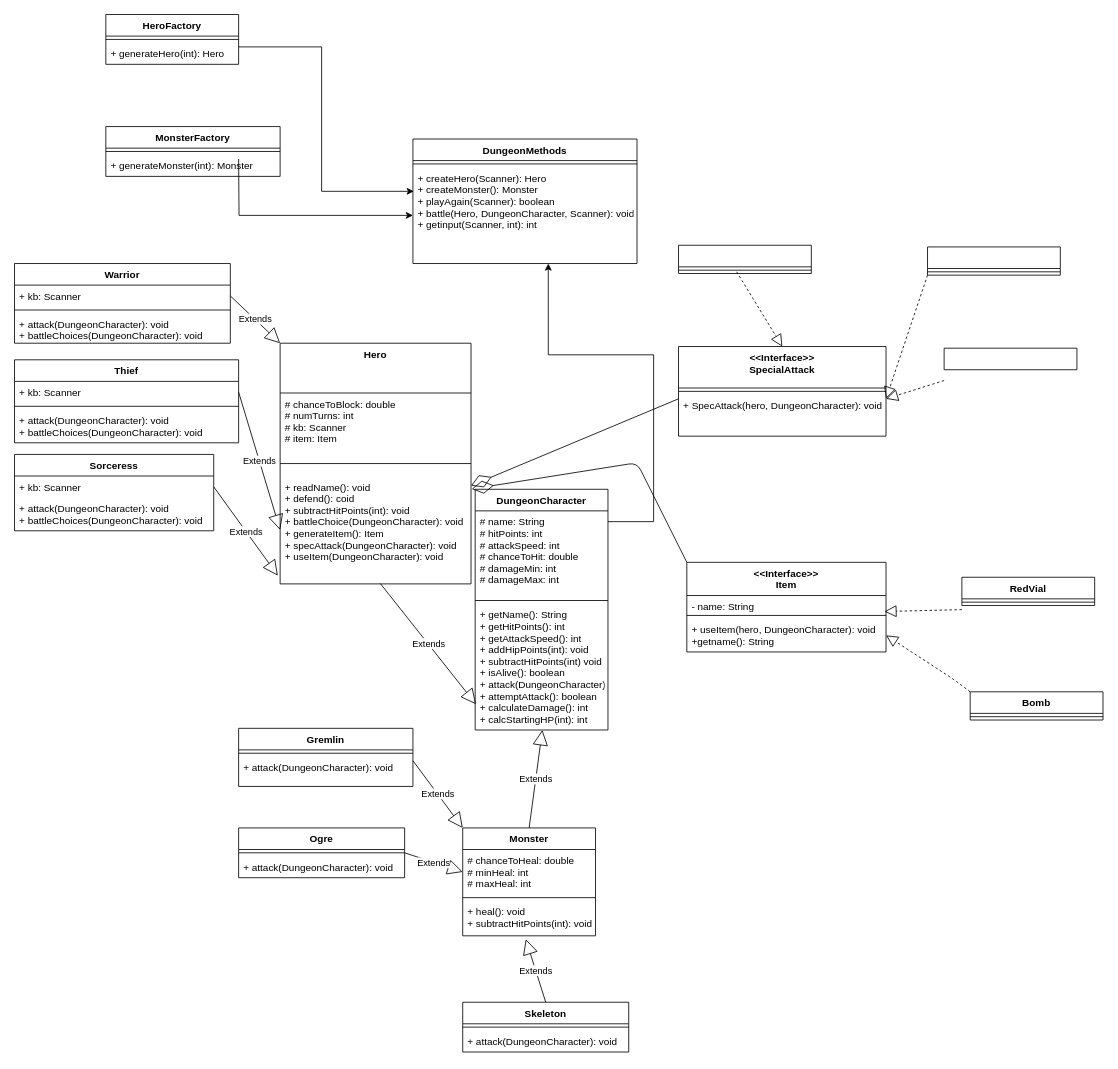
This 1118x1069 diagram has some shape labels left out. Here are the shapes that lost their labels. From the top down, the centre of each, then its label:
At (744,258): "Heal".
At (993,260): "CrushingBlow".
At (1010,358): "SupriseAttack".
